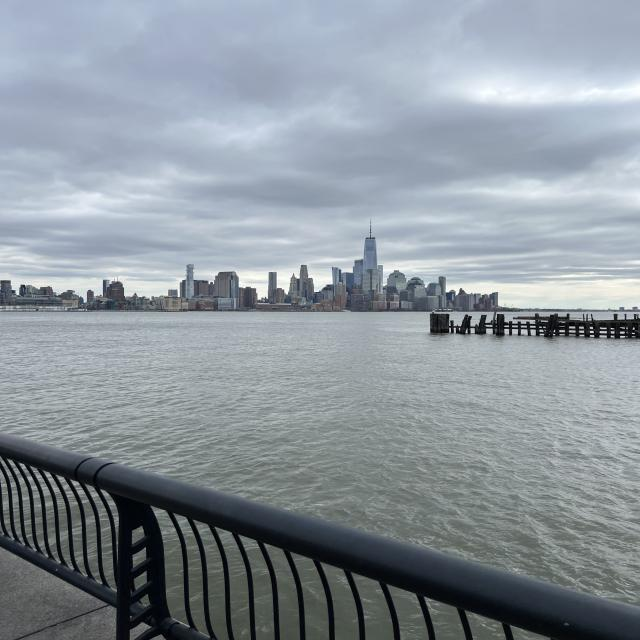WTC: (363, 219, 378, 268)
